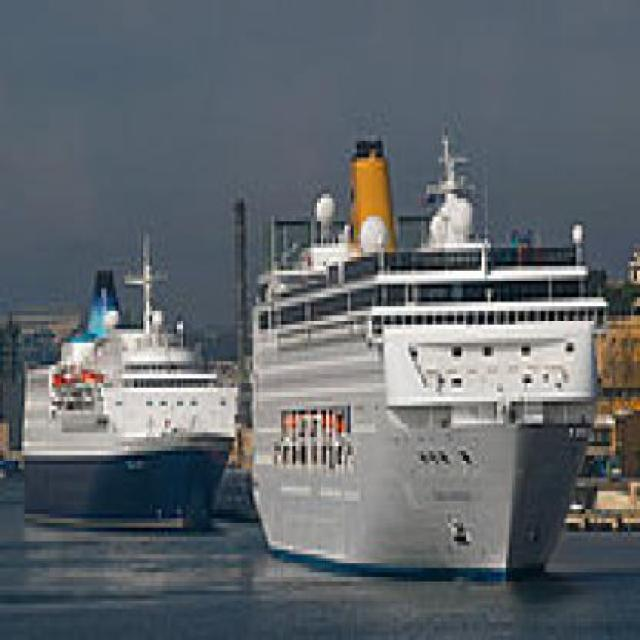cruise: (233, 109, 611, 578), (14, 217, 254, 533)
